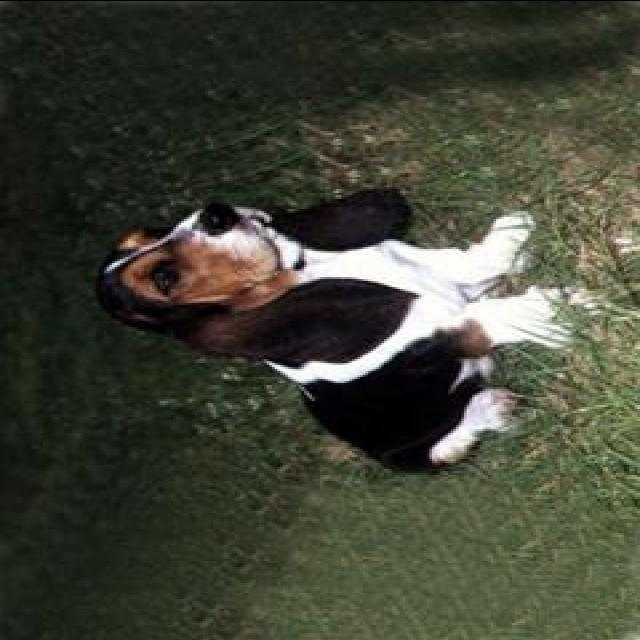basset: (87, 178, 574, 480)
